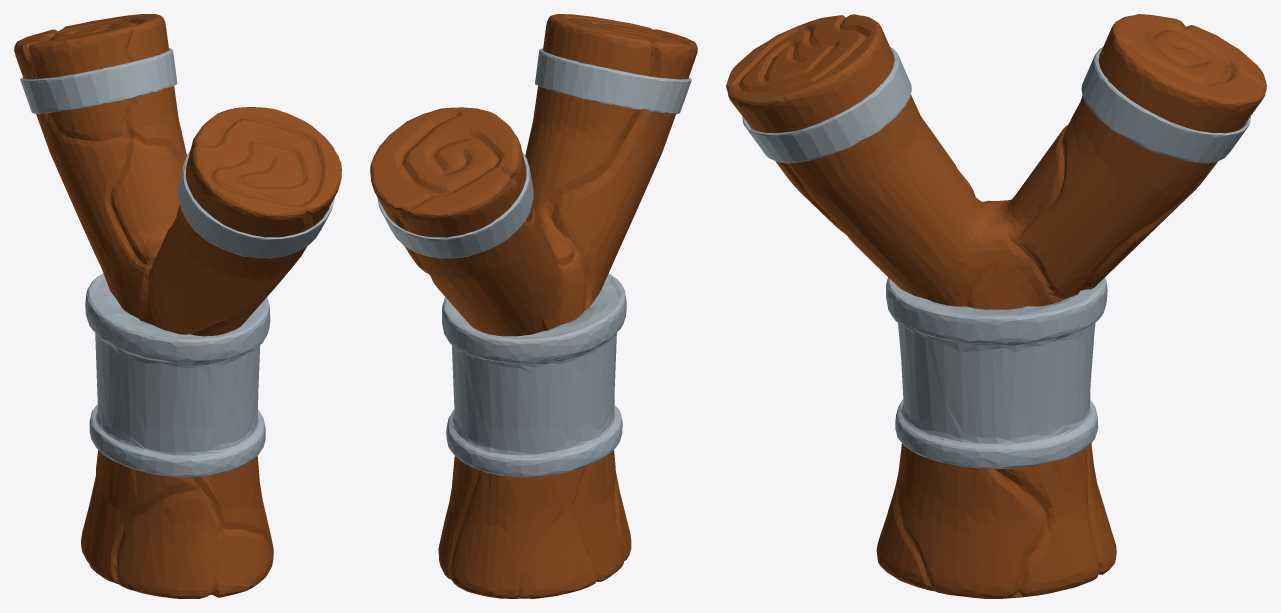
File: Player.fbx
The picture shows the model from 3 angles, left to right: view 1: azimuth 30°, elevation 25°; view 2: azimuth 150°, elevation 25°; view 3: azimuth 270°, elevation 25°; orthographic projection. The views are drawn at different scales.
Parts seen in each view (by area): view 1: Player; view 2: Player; view 3: Player.
Part boxes in pixels (x1,y1,x2,y2): Player: [14, 14, 341, 598]; Player: [370, 14, 697, 598]; Player: [726, 14, 1266, 598].
Size of what is drawn, in the model's own units: 2.73 by 8 by 7.38.
